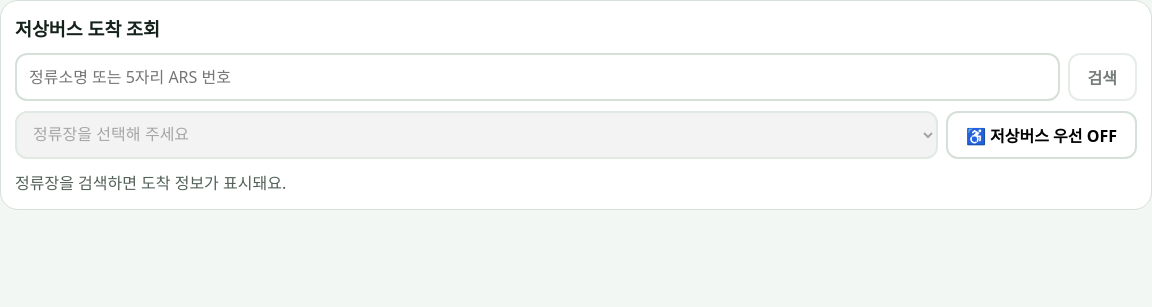
Test: 저상버스 도착 상태 › 오류 시 원인 안내와 재시도를 제공한다
This screenshot has width=1152, height=307.
In the field named "버스 정류장 검색": (537, 77) [15,53,1060,101], type "서면"
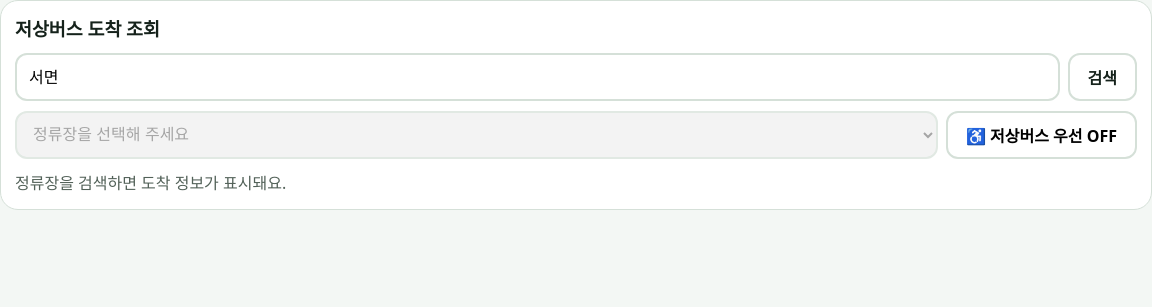
Click the button "검색": (1102, 77) [1068,53,1137,101]
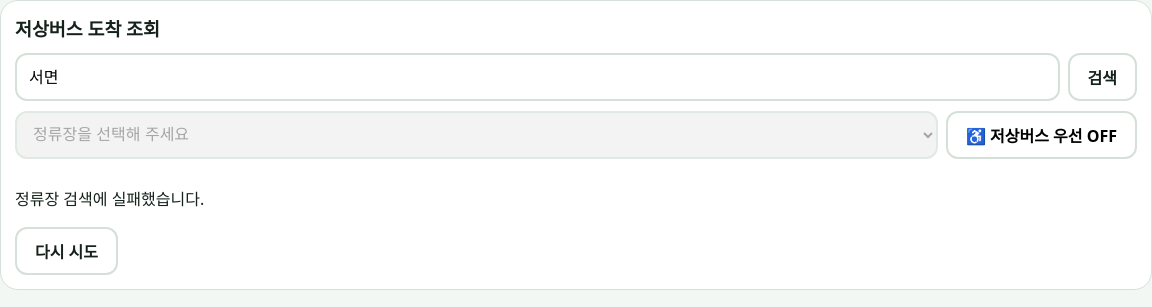
Result: the message shows "정류장 검색에 실패" at [15,188,204,210]
Result: the button "다시 시도" is shown at [15,227,118,275]
